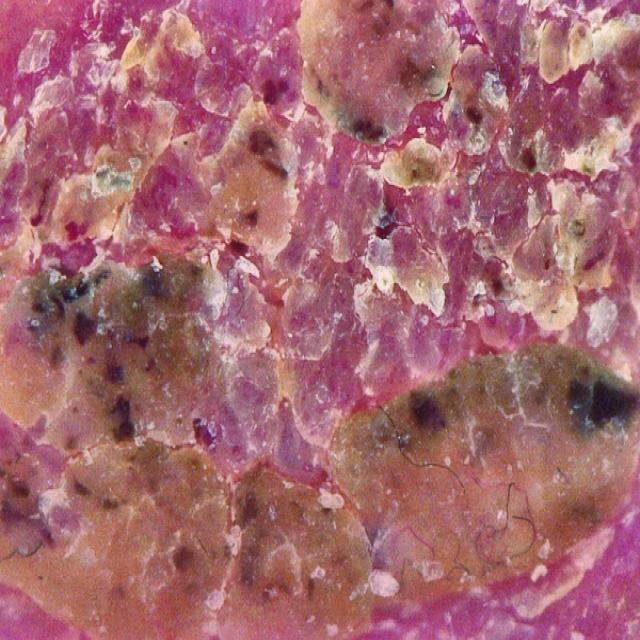Benign-Keratosis-like-Lesions-BKL-: (15, 11, 617, 594)
